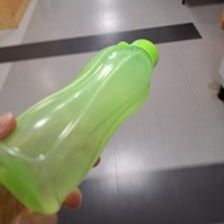bottle: (0, 36, 160, 212)
